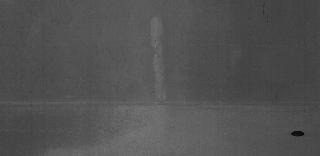punching hole: (290, 130, 306, 138)
welding line: (2, 99, 318, 112)
